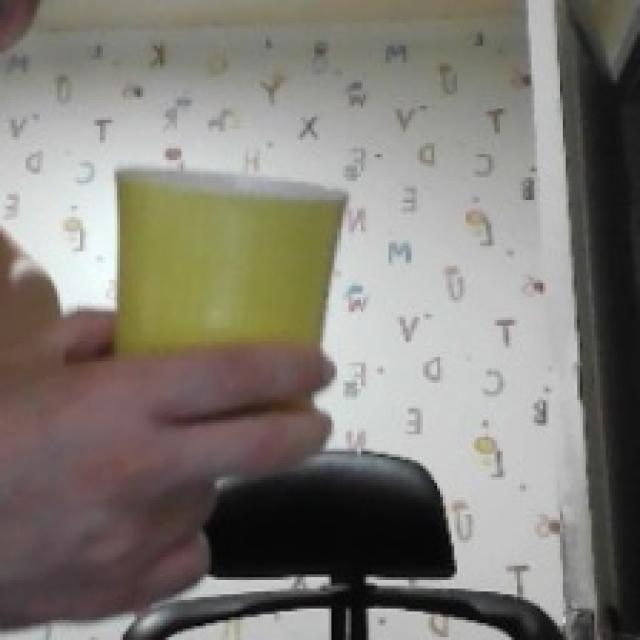cup: (117, 169, 343, 351)
